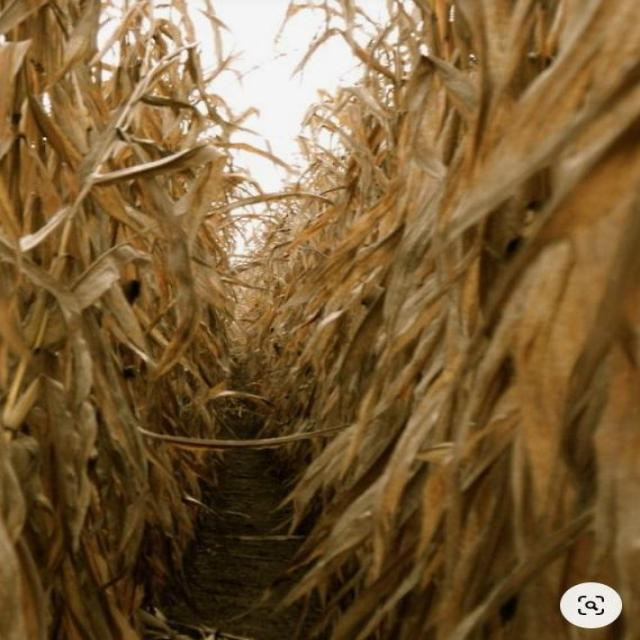row: (85, 382, 538, 640)
